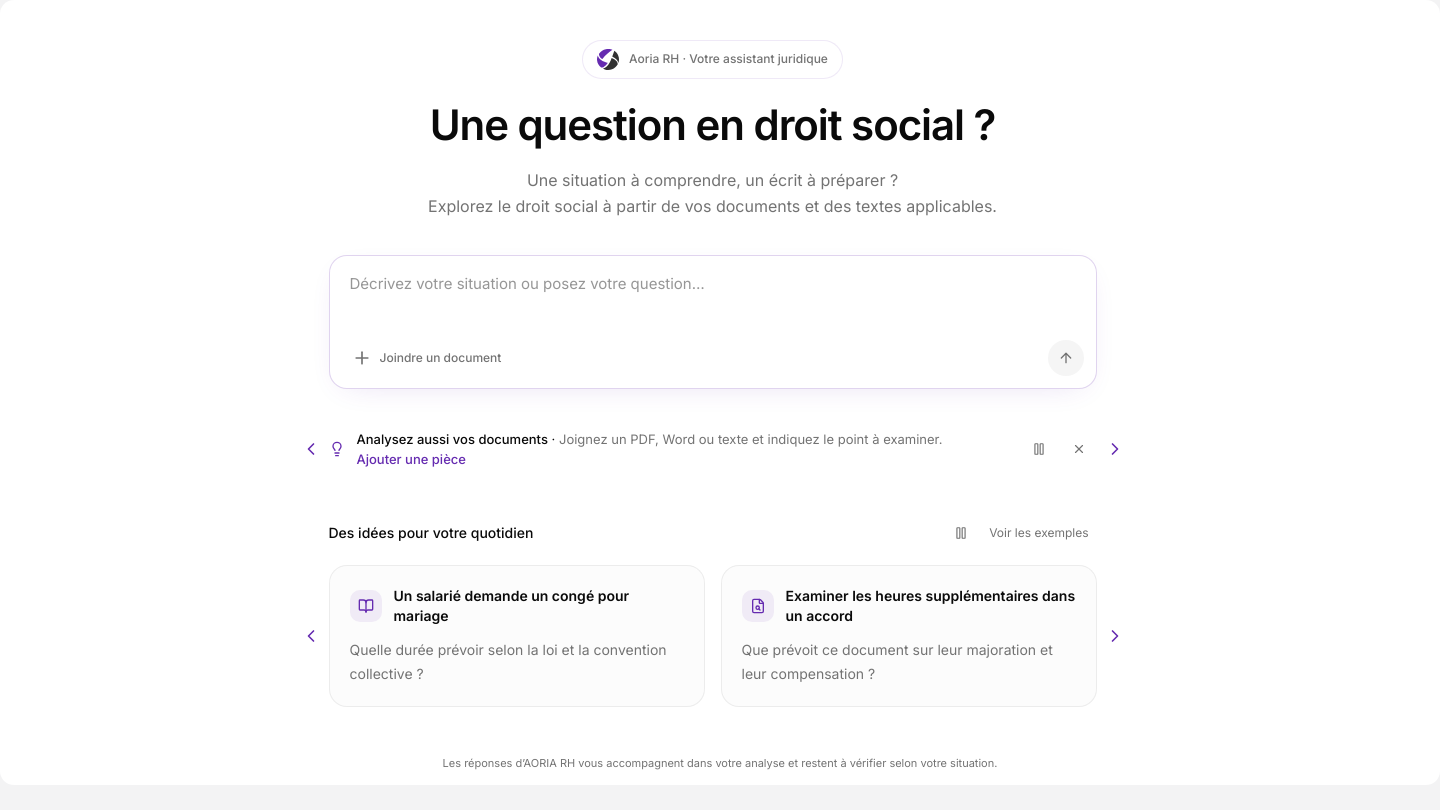
Scenario: pauses tips without pausing card rotation
Click the button named "Mettre en pause les conseils". click: {"x": 1038, "y": 449}
box: [1020,431,1056,467]
Wait 5000 ms
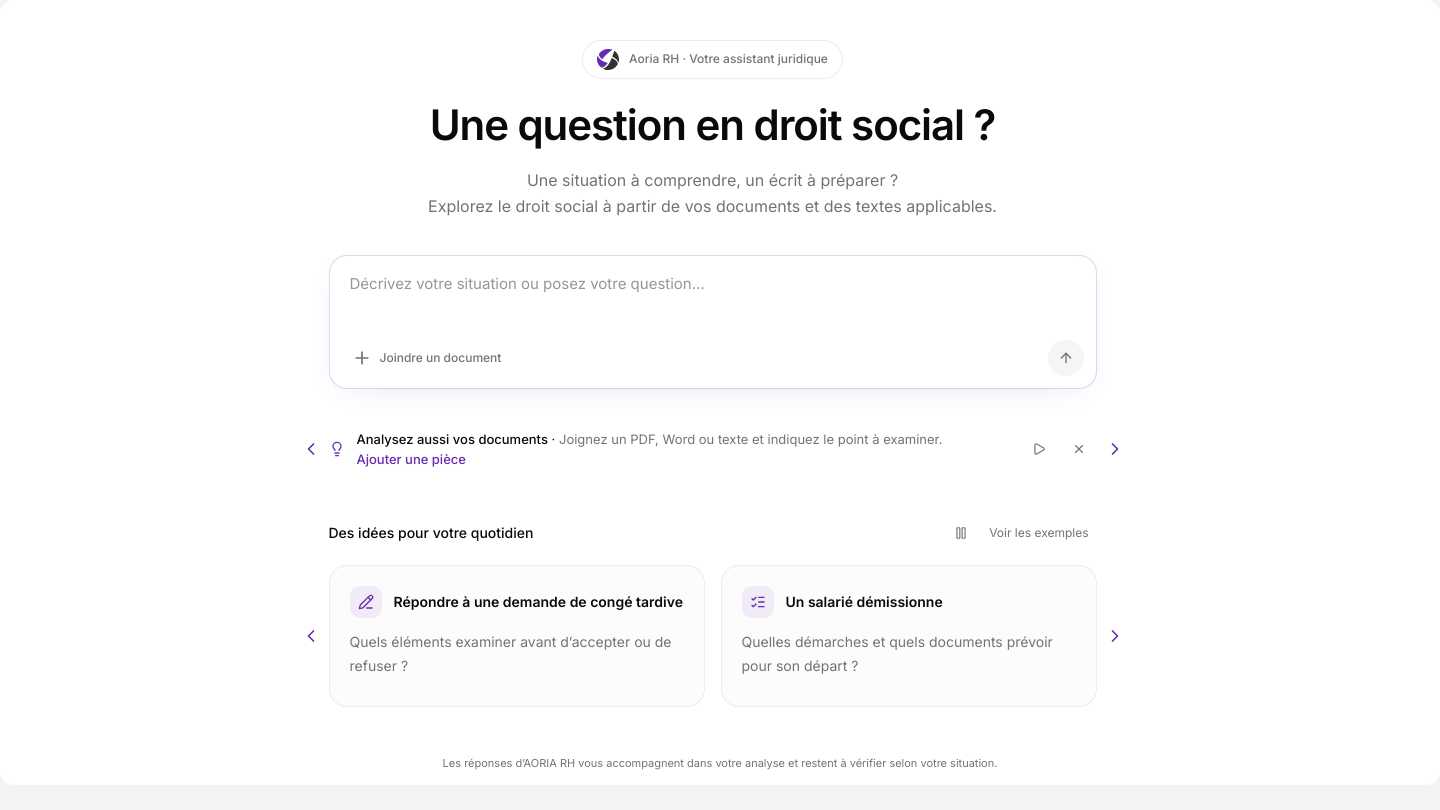
Check: the element named "Idées et conseils" shows "Analysez aussi vos documents", box [356,431,548,447]
Click the button named "Reprendre le défilement des conseils". click: {"x": 1038, "y": 449}
box: [1020,431,1056,467]
Wait 5000 ms
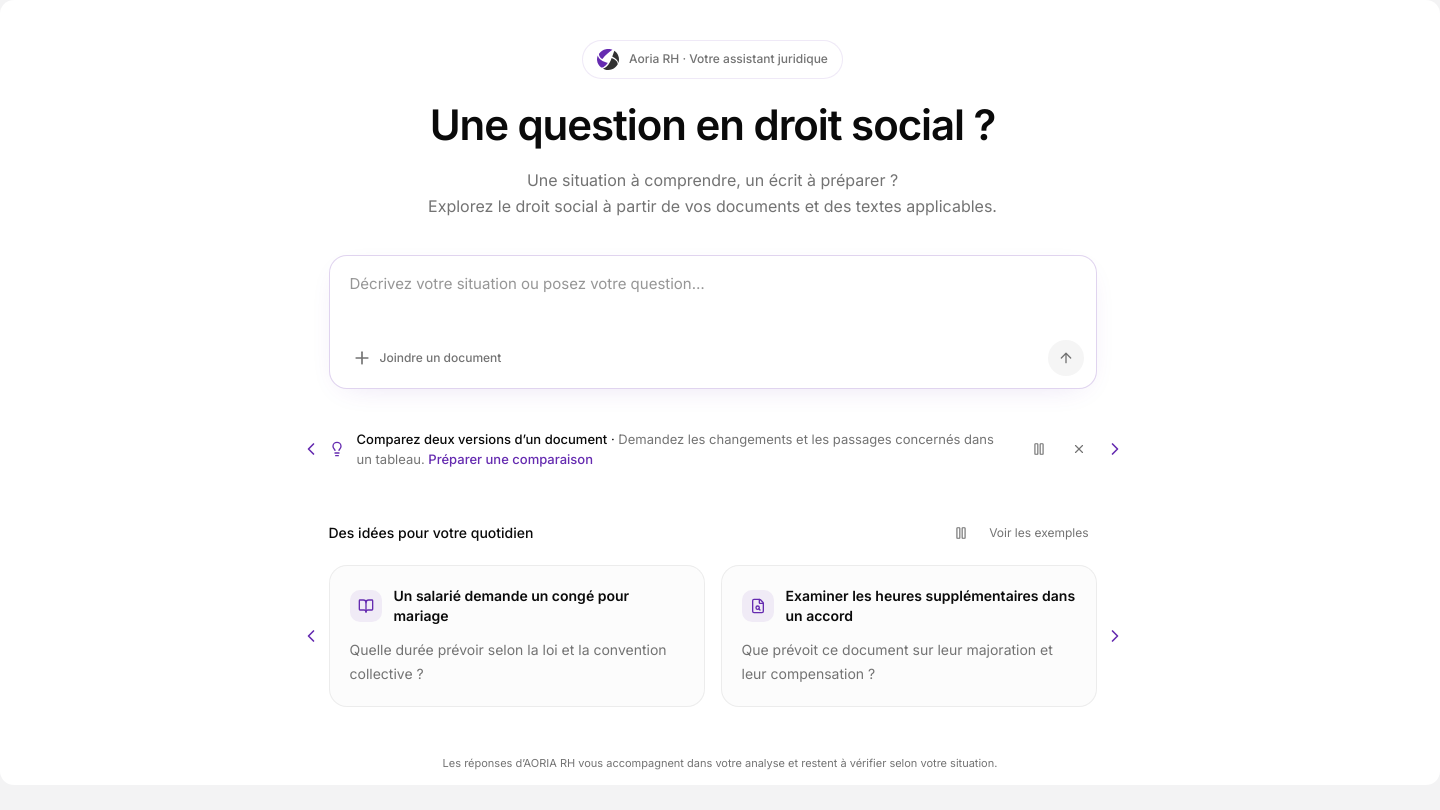
Check: the element named "Idées et conseils" shows "Comparez deux versions", box [356,431,607,447]
